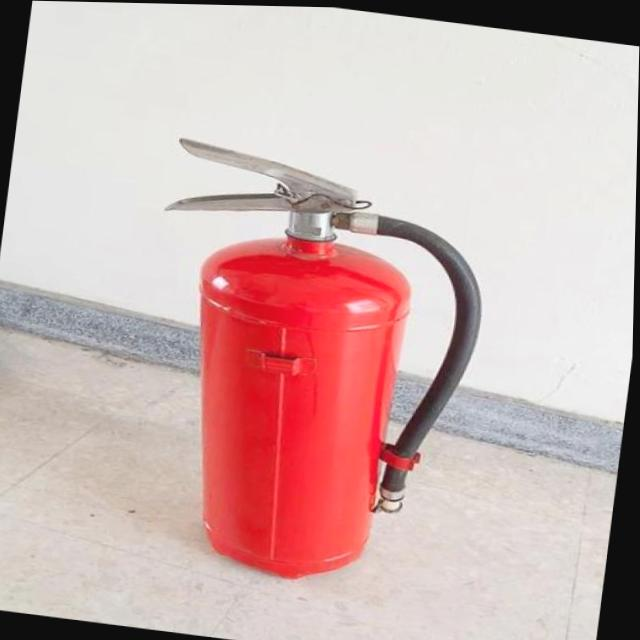FireExtinguisher: (114, 126, 512, 601)
